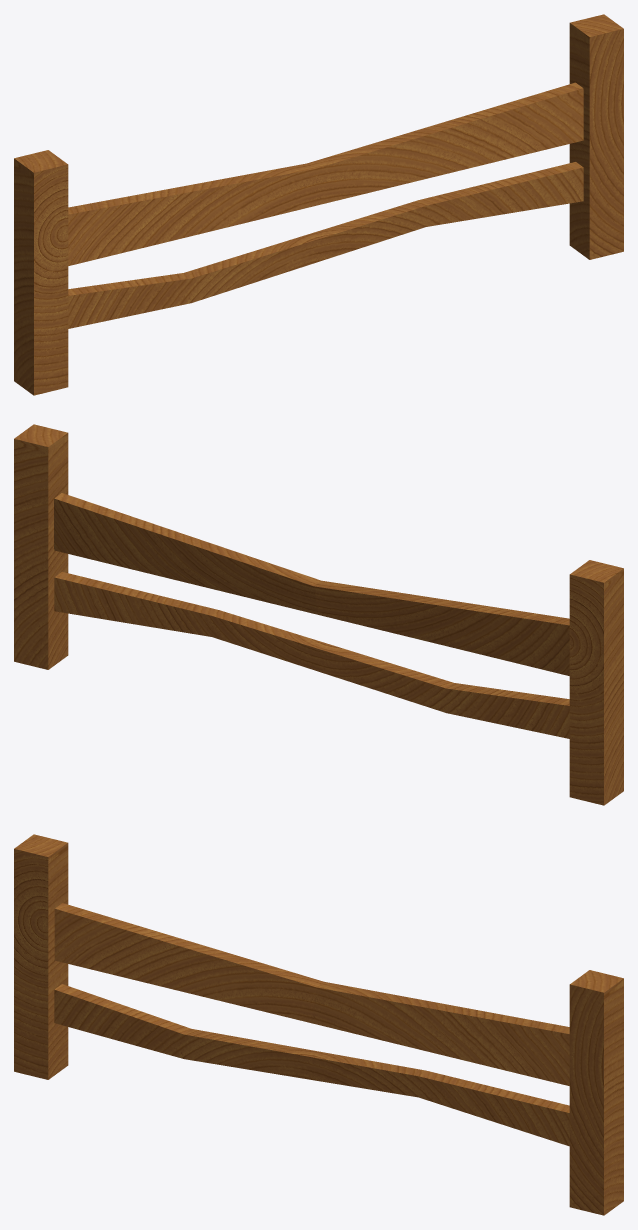
Rendered from Valla2_Textura.fbx.
3 renders of one model, top to bottom at view 1: azimuth 30°, elevation 25°; view 2: azimuth 150°, elevation 25°; view 3: azimuth 330°, elevation 25°, orthographic.
Parts seen in each view (by area): view 1: Cube.002; view 2: Cube.002; view 3: Cube.002.
Part boxes in pixels (x1,y1,x2,y2): Cube.002: (14, 14, 623, 395); Cube.002: (14, 424, 623, 805); Cube.002: (14, 834, 623, 1215).
Bounding box in the file's own units: 1076 × 388 × 62.64.
Materials: 1 (1 with a texture image).
